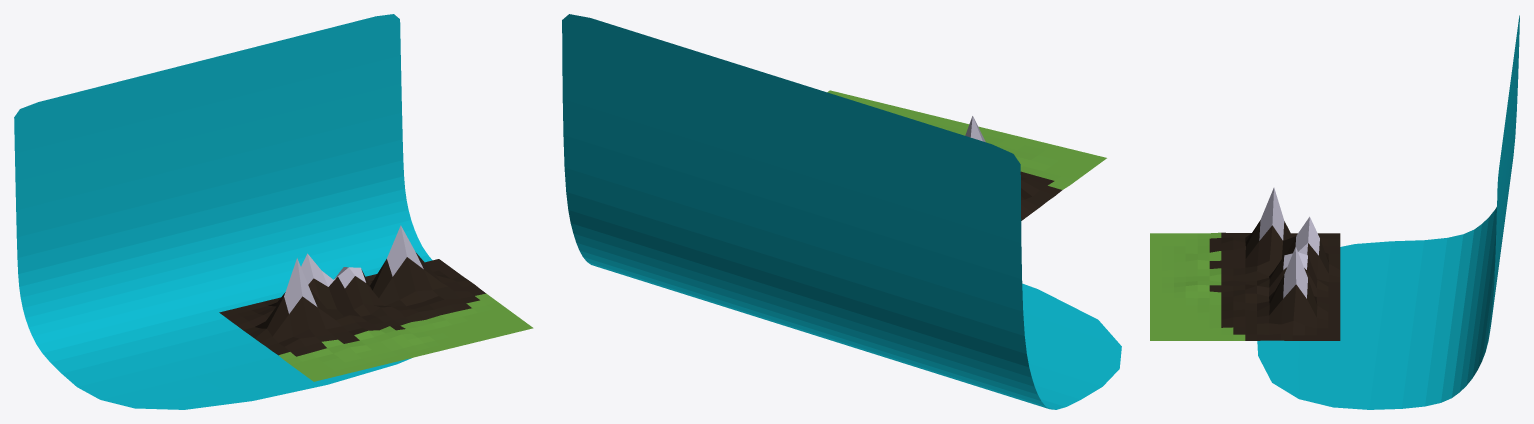
Rendered from lowpolymountains.obj.
The picture shows the model from 3 angles, left to right: view 1: azimuth 30°, elevation 25°; view 2: azimuth 150°, elevation 25°; view 3: azimuth 270°, elevation 25°; orthographic projection. The views are drawn at different scales.
Visible parts, largest first — view 1: Plane_Plane.001, Sahne_Plane; view 2: Plane_Plane.001, Sahne_Plane; view 3: Plane_Plane.001, Sahne_Plane.
Part boxes in pixels (box(x1,y1,x2,y2)): Plane_Plane.001: box(14, 14, 432, 409); Sahne_Plane: box(219, 225, 533, 381); Plane_Plane.001: box(562, 14, 1121, 409); Sahne_Plane: box(827, 90, 1106, 220); Plane_Plane.001: box(1257, 15, 1519, 409); Sahne_Plane: box(1150, 187, 1340, 340).
Bounding box in the file's own units: 36.38 × 22.72 × 30.83.
